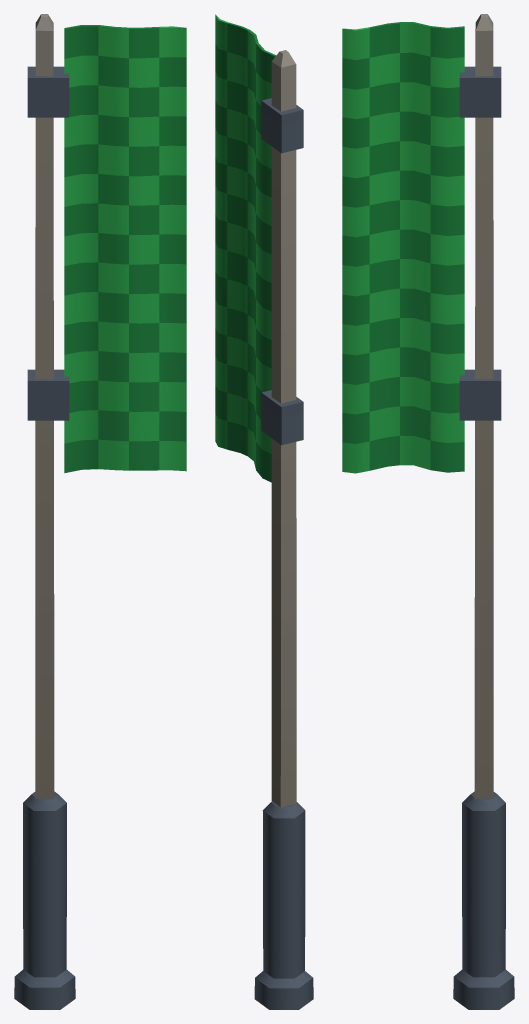
The model's file is FlagRace_E.fbx.
3 renders of one model, left to right at view 1: azimuth 90°, elevation 25°; view 2: azimuth 210°, elevation 25°; view 3: azimuth 270°, elevation 25°, orthographic. The views are drawn at different scales.
Parts seen in each view (by area): view 1: FlagRace_E; view 2: FlagRace_E; view 3: FlagRace_E.
Part boxes in pixels (box(x1,y1,x2,y2)): FlagRace_E: box(14, 14, 186, 1009); FlagRace_E: box(215, 14, 313, 1009); FlagRace_E: box(342, 14, 514, 1009).
Size of the model in its own units: 62.3 by 1269 by 202.
